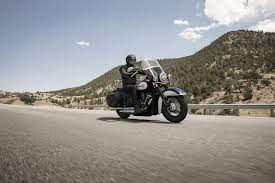motorcycle: (103, 58, 189, 123)
